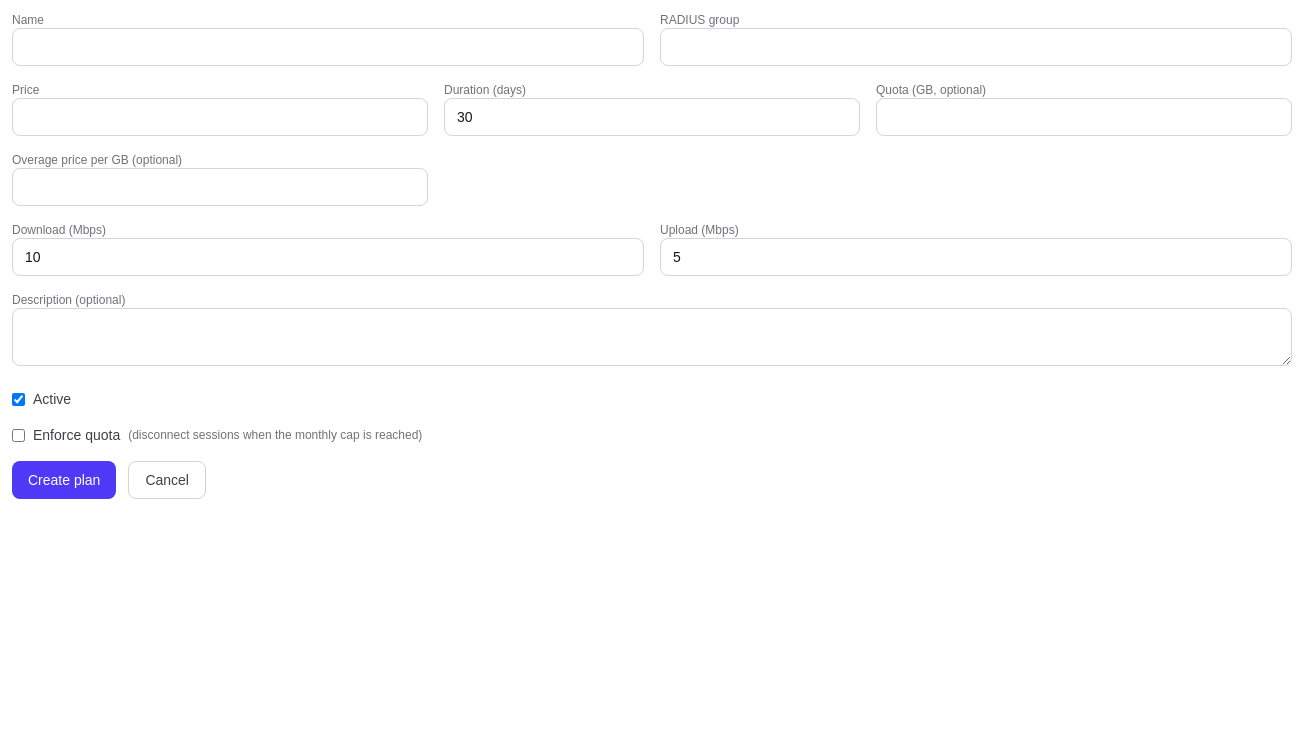
it: PlanForm (create) › validates required fields before submitting
The width and height of the screenshot is (1304, 732).
Click the button "Create plan": (64,480) [12,461,116,499]
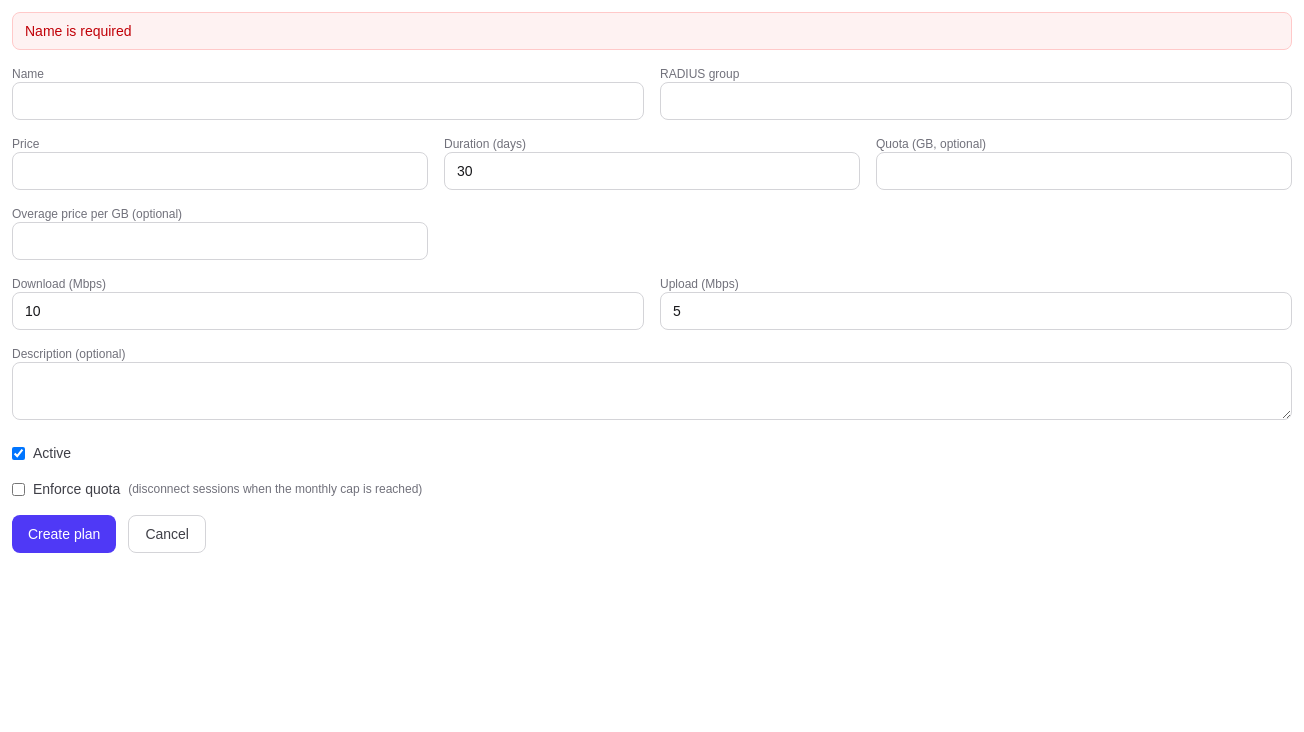
Expected: the message reads "Name is required", [25,23,132,39]
